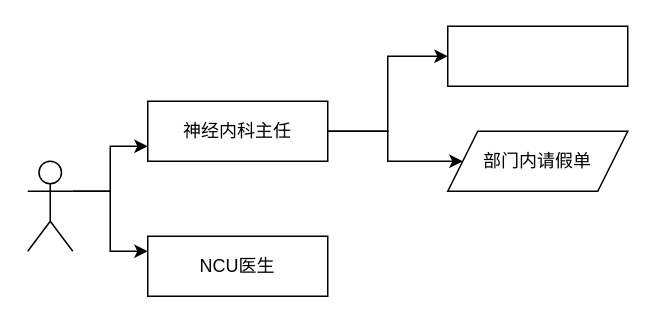
Image size: 654x323. Some labels were removed from this diagram. Here are the shapes that lost their labels. From the top down, the centre of each, then its label:
the point at 537,55: 查看,审批
the point at 49,205: 用户A
